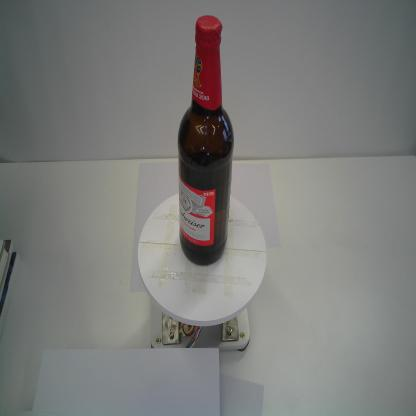Alcohol: (176, 13, 236, 267)
